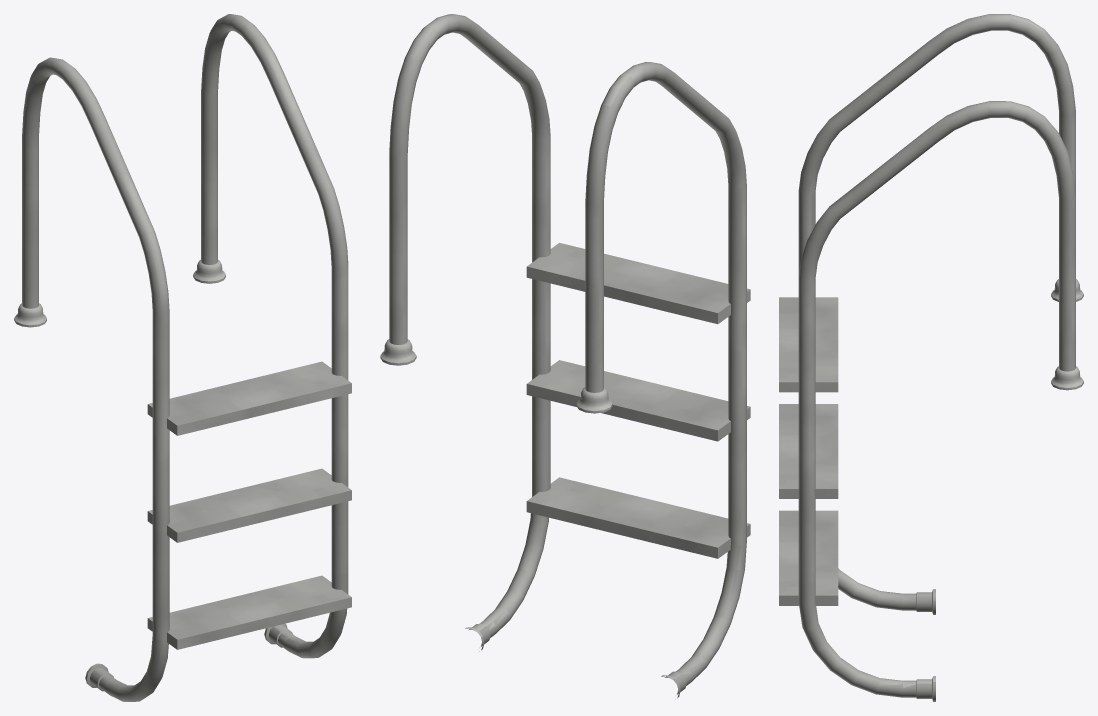
Rendered from pool_ladder.glb.
3 views of the same model, side by side, from view 1: azimuth 30°, elevation 25°; view 2: azimuth 150°, elevation 25°; view 3: azimuth 270°, elevation 25° (orthographic). The views are drawn at different scales.
Parts seen in each view (by area): view 1: pool_ladder; view 2: pool_ladder; view 3: pool_ladder.
Part boxes in pixels (left/top/right/bottom): pool_ladder: left=14, top=14, right=351, bottom=701; pool_ladder: left=380, top=14, right=750, bottom=699; pool_ladder: left=779, top=14, right=1083, bottom=701.
Bounding box in the file's own units: 0.565 × 1.56 × 0.7204.
1 material, 1 textured.
